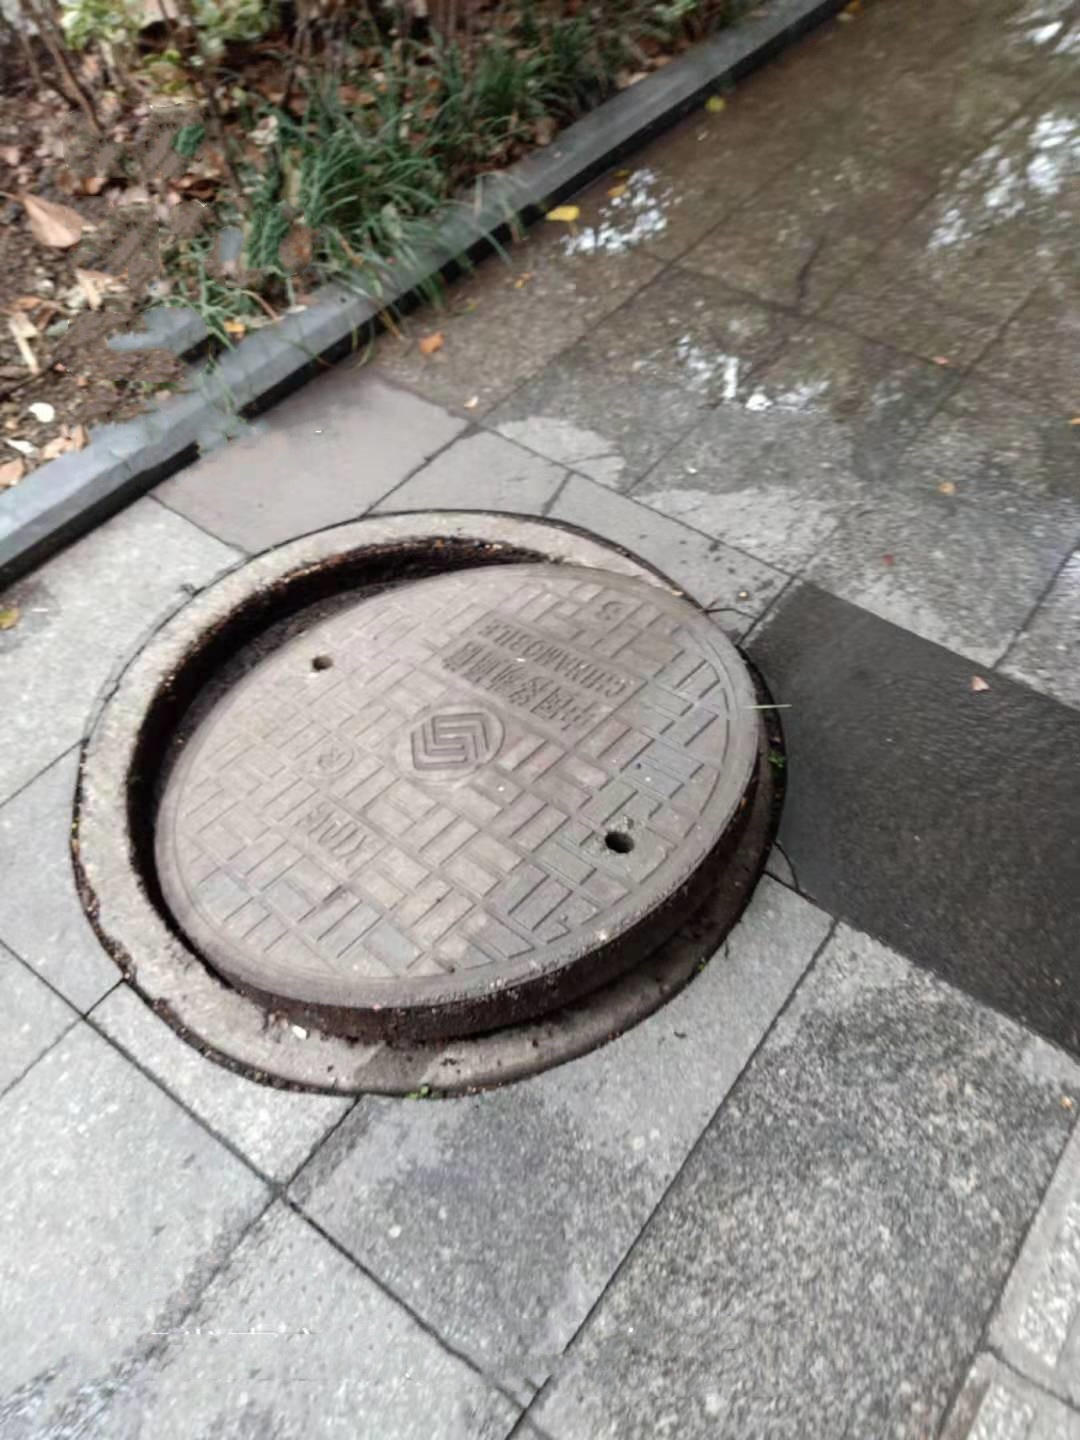uncovered: (71, 509, 788, 1091)
